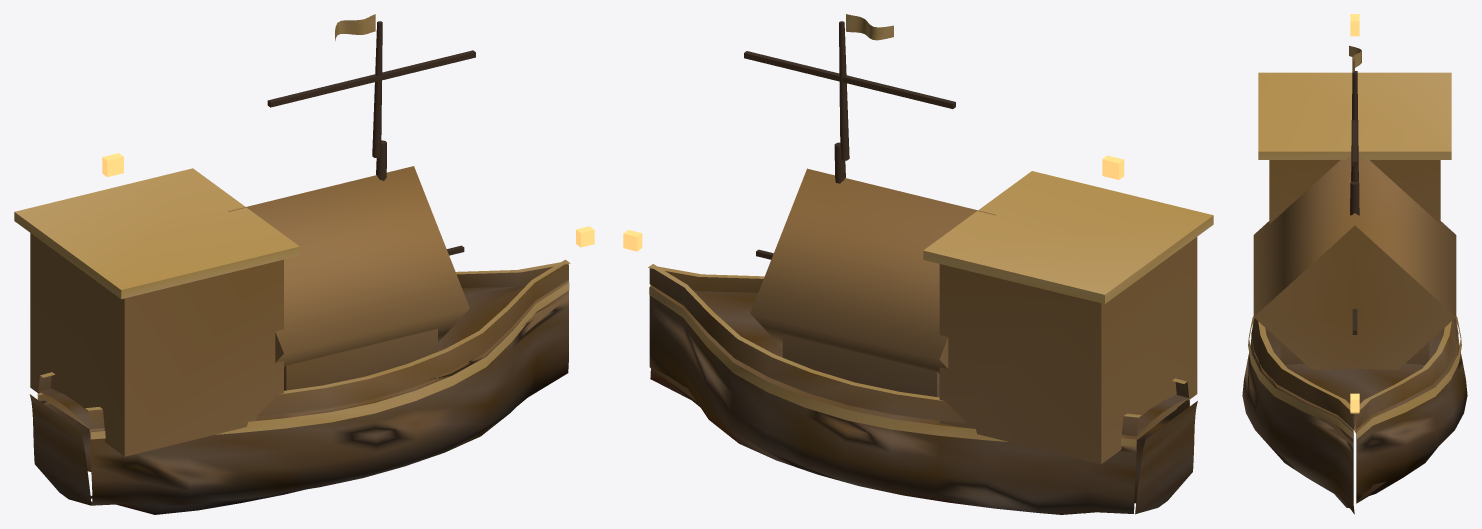
Rendered from garden-hero-titan.glb.
The picture shows the model from 3 angles, left to right: view 1: azimuth 30°, elevation 25°; view 2: azimuth 150°, elevation 25°; view 3: azimuth 270°, elevation 25°; orthographic projection. The views are drawn at different scales.
Visible parts, largest first — view 1: wood-hull, trim-hull, spar-hull, glow-hull; view 2: wood-hull, trim-hull, spar-hull, glow-hull; view 3: wood-hull, trim-hull, spar-hull, glow-hull.
Part boxes in pixels (left/top/right/bottom): wood-hull: left=29, top=14, right=570, bottom=514; trim-hull: left=14, top=168, right=569, bottom=439; spar-hull: left=267, top=21, right=475, bottom=255; glow-hull: left=102, top=153, right=594, bottom=247; wood-hull: left=648, top=14, right=1197, bottom=514; trim-hull: left=649, top=171, right=1213, bottom=446; spar-hull: left=744, top=21, right=955, bottom=259; glow-hull: left=623, top=155, right=1124, bottom=251; wood-hull: left=1242, top=45, right=1467, bottom=514; trim-hull: left=1248, top=72, right=1461, bottom=438; spar-hull: left=1350, top=71, right=1359, bottom=334; glow-hull: left=1350, top=14, right=1359, bottom=412.
Size of the model in its own units: 10.97 by 8.77 by 4.4.
